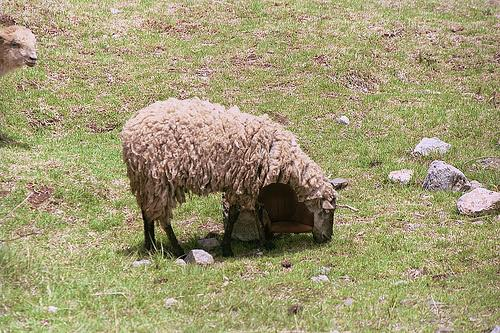tampered: (259, 184, 314, 240)
